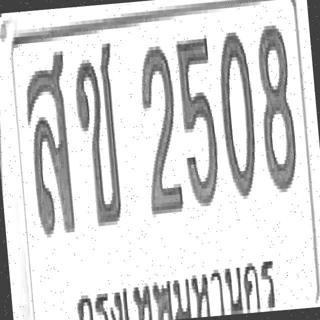A10: (70, 36, 126, 227)
A40: (20, 45, 79, 237)
N00: (214, 25, 260, 198)
N02: (135, 40, 184, 216)
N05: (174, 31, 222, 208)
N08: (253, 19, 299, 192)
